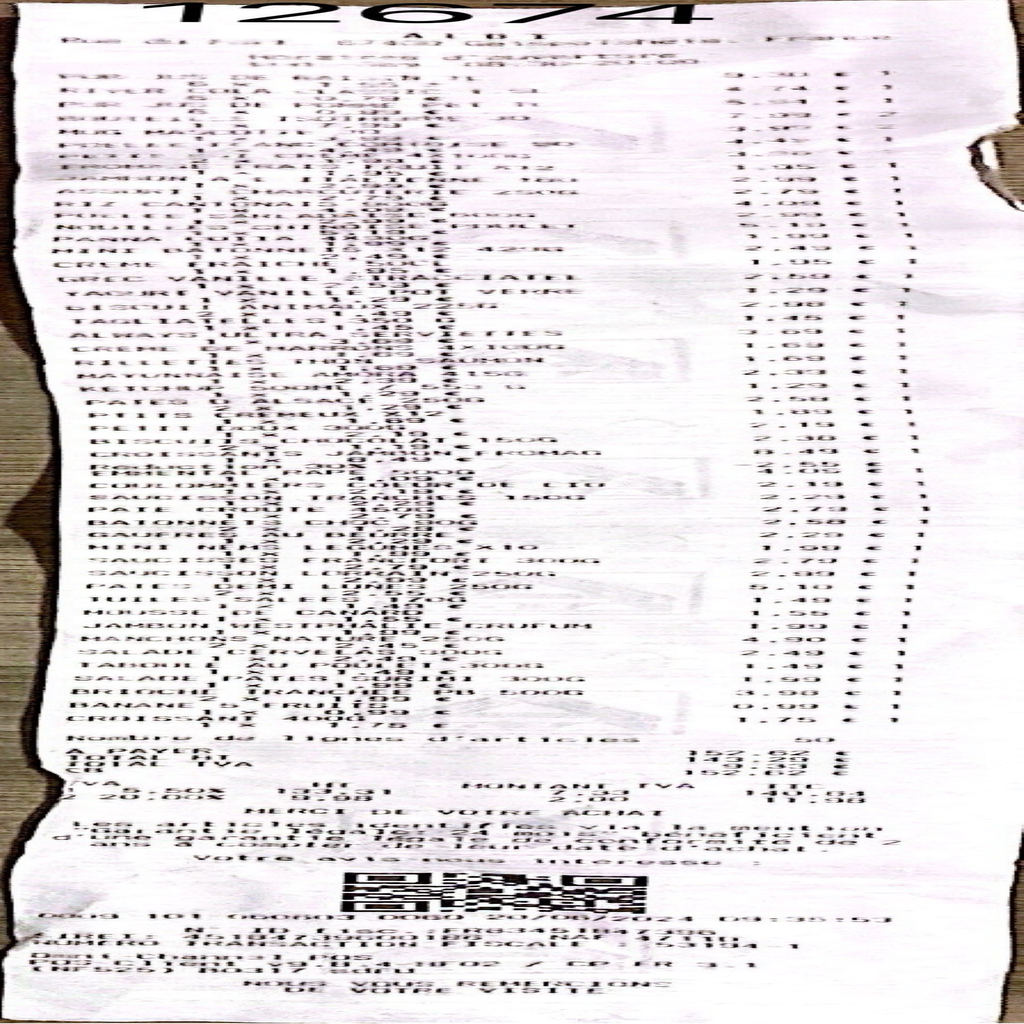recipt: (8, 0, 1024, 1024)
